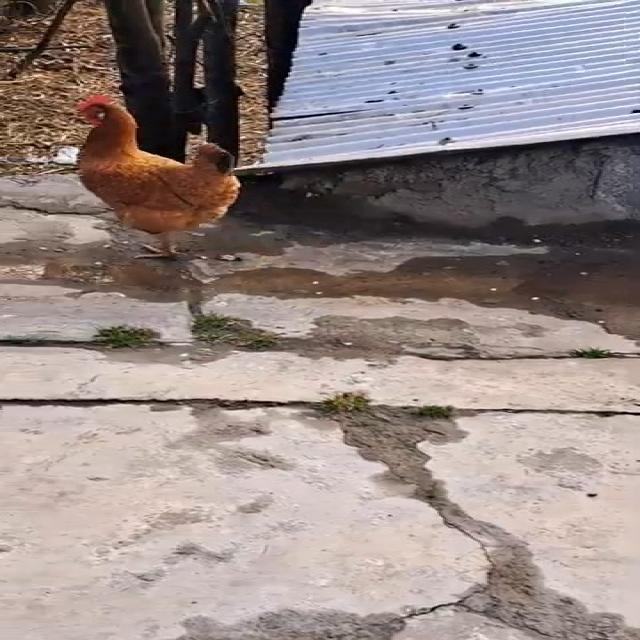walking: (50, 88, 252, 284)
